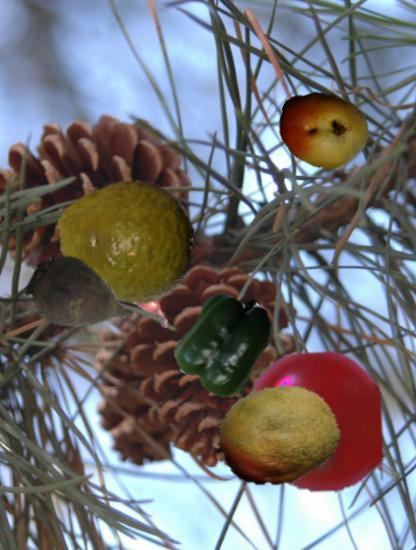Banana: (124, 281, 177, 334)
Beetroot: (24, 242, 139, 357)
Guava: (56, 172, 193, 309)
Papaya: (214, 373, 341, 500), (277, 84, 368, 175)
Pepper: (176, 293, 277, 394)
Redcurrant: (242, 349, 387, 494)
